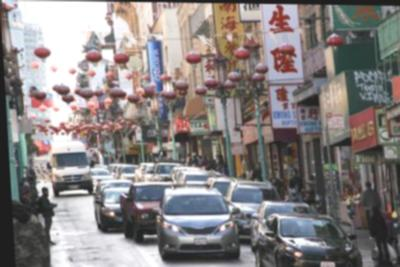License_Plate: (319, 260, 335, 267)
